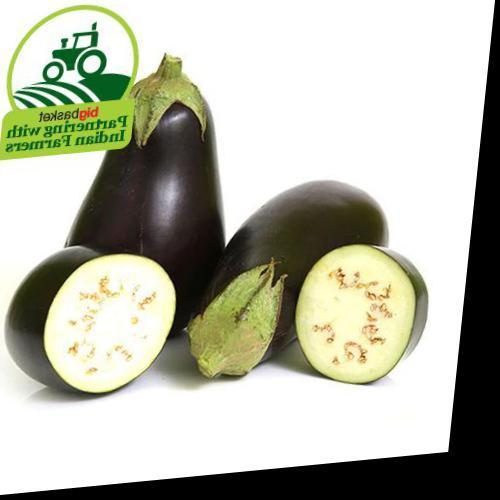eggplant: (104, 172, 432, 422)
